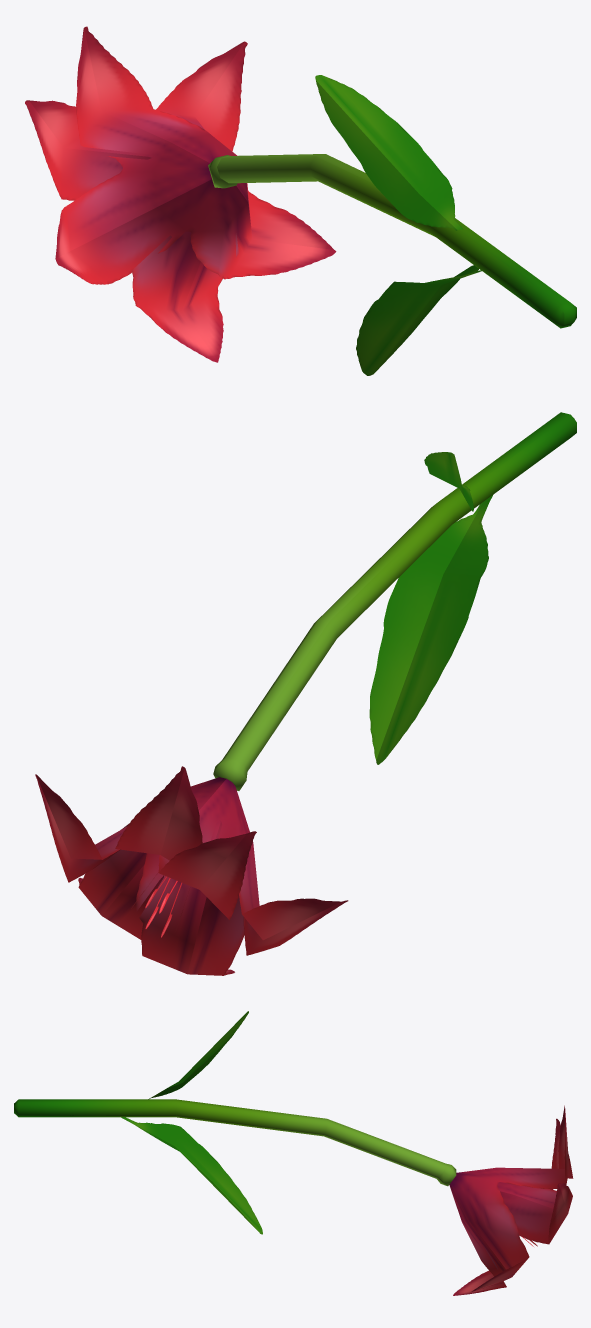
The model's file is SM_Lilly_Red_One.fbx.
3 renders of one model, top to bottom at view 1: azimuth 30°, elevation 25°; view 2: azimuth 150°, elevation 25°; view 3: azimuth 270°, elevation 25°, orthographic. The views are drawn at different scales.
Visible parts, largest first — view 1: Lilly_Red_One; view 2: Lilly_Red_One; view 3: Lilly_Red_One.
Boxes of the visible parts, left/top/right/bottom form: Lilly_Red_One: left=25, top=26, right=576, bottom=375; Lilly_Red_One: left=35, top=412, right=576, bottom=975; Lilly_Red_One: left=14, top=1011, right=573, bottom=1295.
Bounding box in the file's own units: 55.82 × 69.78 × 131.
